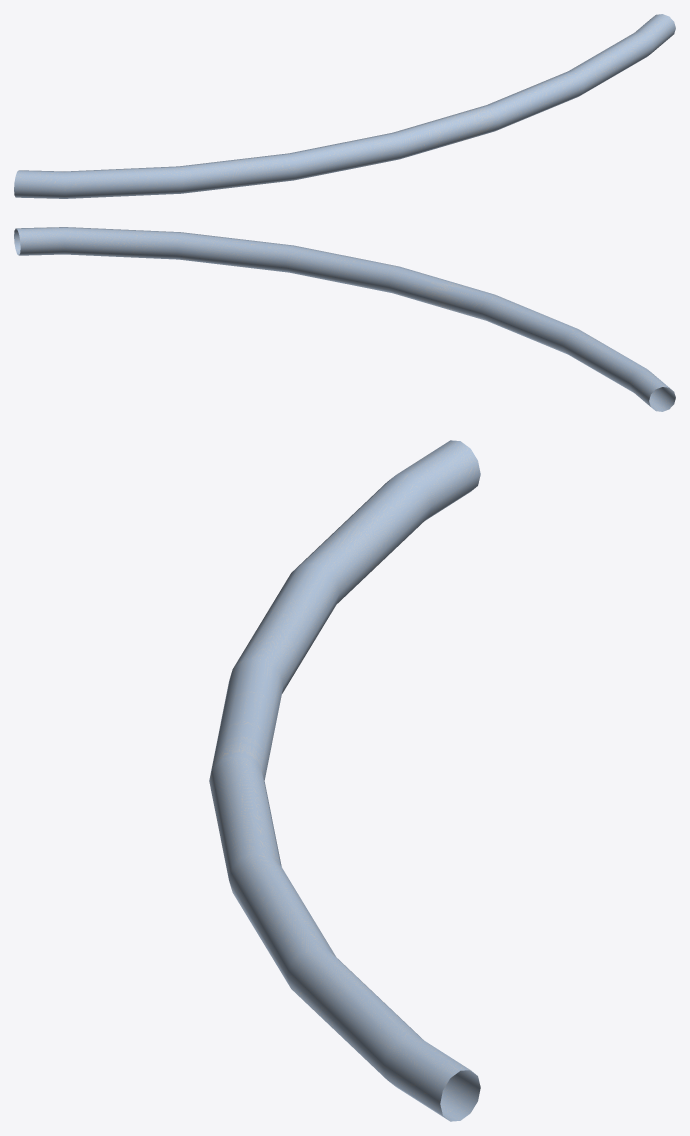
The model's file is original-34.obj.
3 views of the same model, one above another, from view 1: azimuth 30°, elevation 25°; view 2: azimuth 150°, elevation 25°; view 3: azimuth 270°, elevation 25° (orthographic). The views are drawn at different scales.
Visible parts, largest first — view 1: mesh25/mesh25-geometry#mesh25-geometry; view 2: mesh25/mesh25-geometry#mesh25-geometry; view 3: mesh25/mesh25-geometry#mesh25-geometry.
Part boxes in pixels (x1,y1,x2,y2): mesh25/mesh25-geometry#mesh25-geometry: (14,14,675,198); mesh25/mesh25-geometry#mesh25-geometry: (14,227,675,411); mesh25/mesh25-geometry#mesh25-geometry: (209,440,480,1121).
Bounding box in the file's own units: 0.1587 × 0.00573 × 0.0282.
